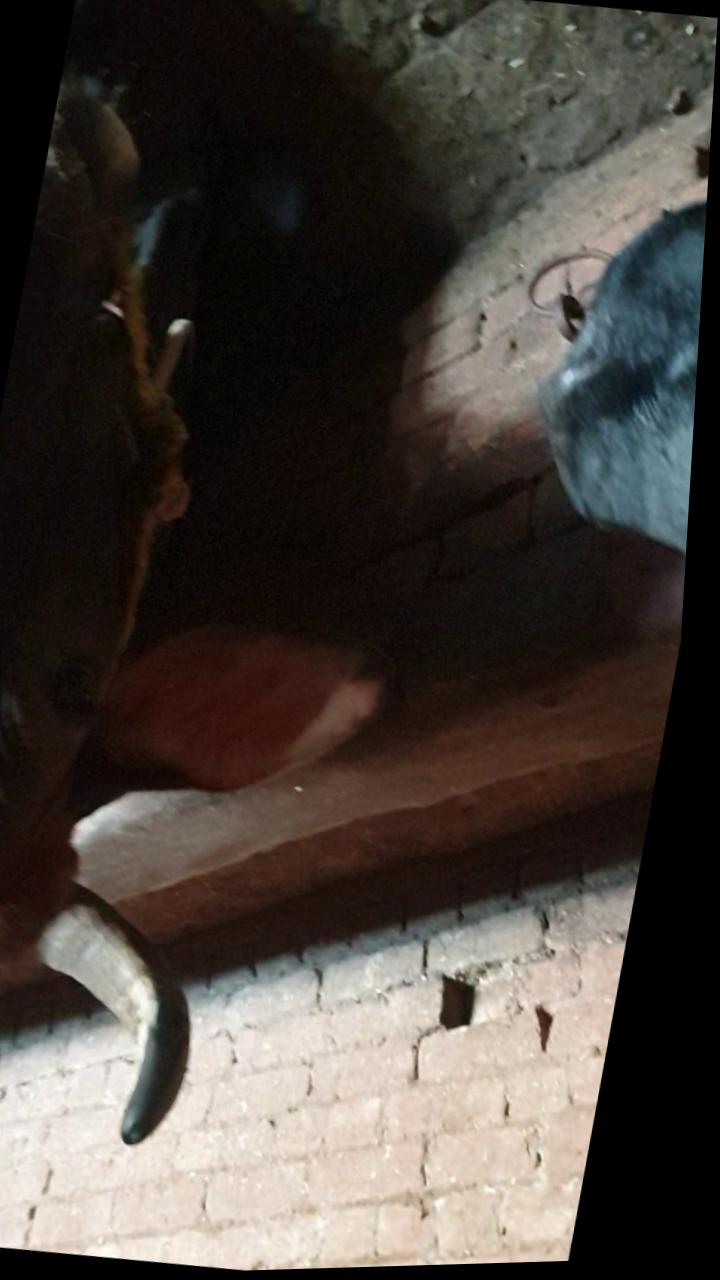cows: (0, 81, 272, 991)
